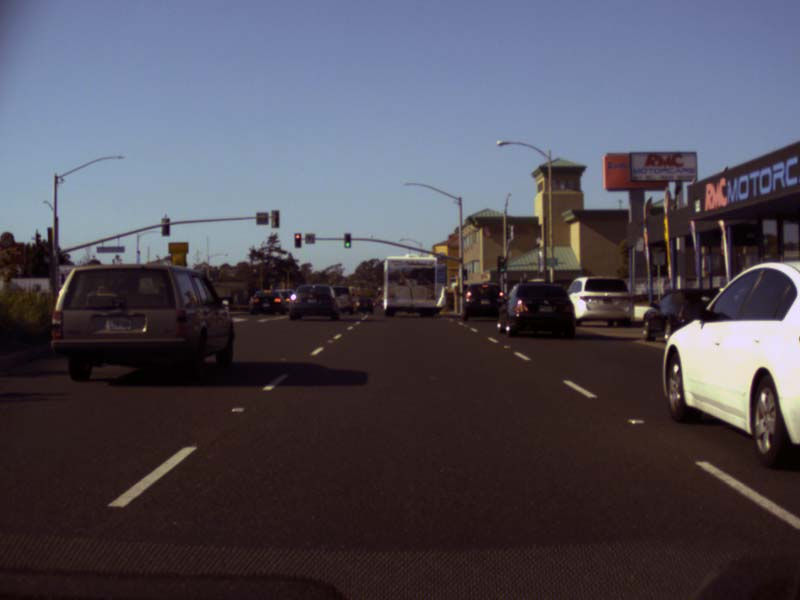Green: (344, 233, 350, 247), (499, 261, 504, 271), (462, 269, 466, 279)
Red: (294, 233, 301, 247)
